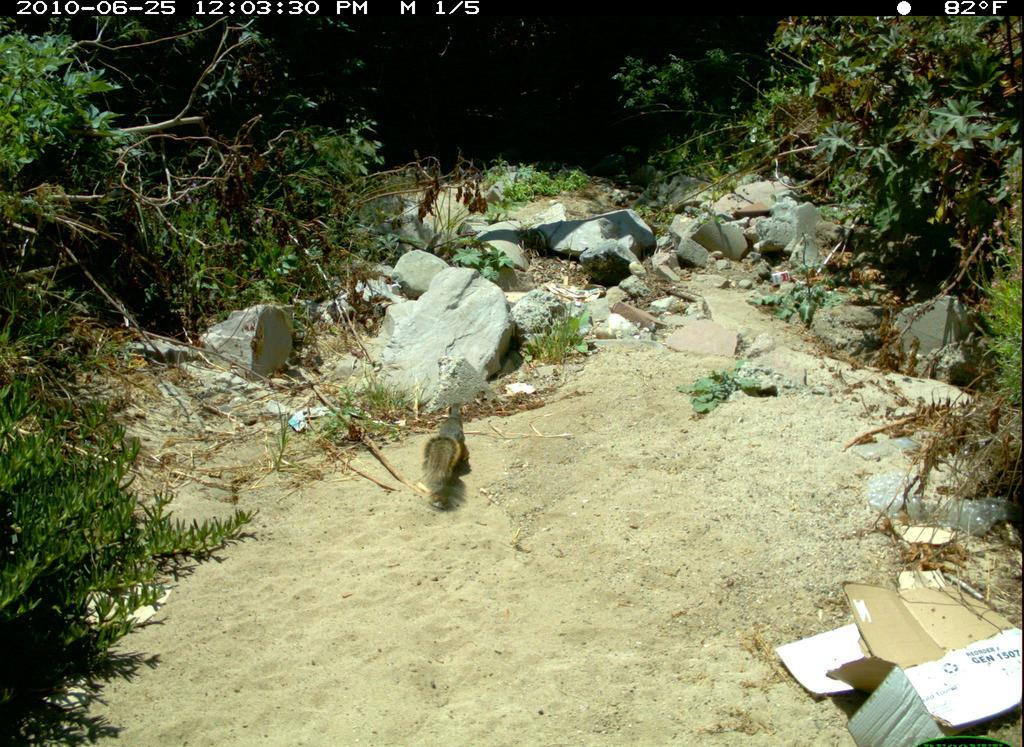squirrel: (418, 396, 475, 521)
